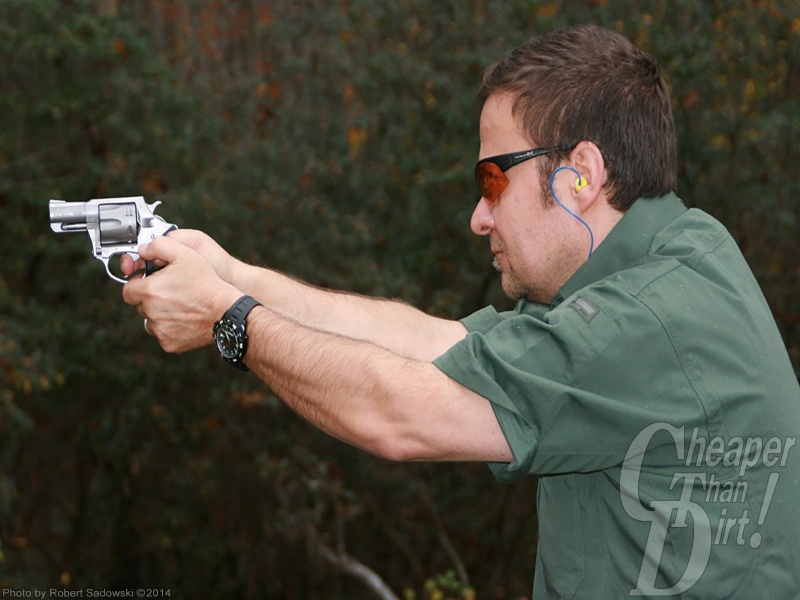gun: (45, 196, 182, 318)
